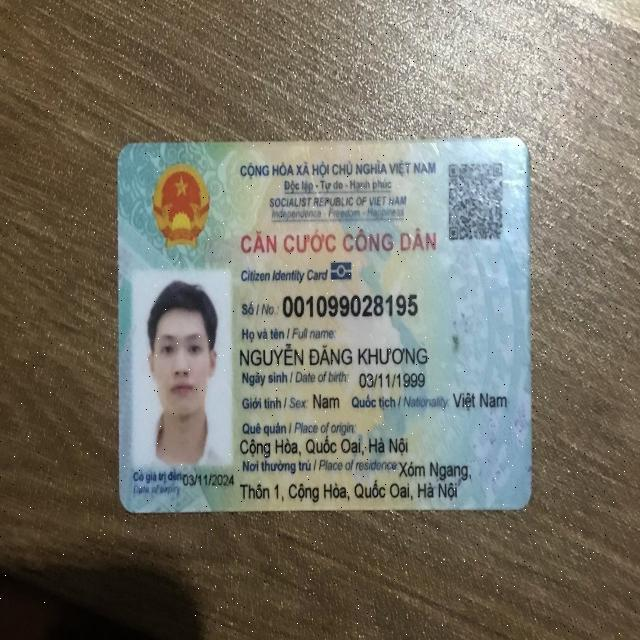current_place: (241, 475, 460, 502), (398, 459, 473, 483)
dob: (357, 369, 427, 388)
expire_date: (182, 470, 236, 491)
gender: (311, 390, 346, 414)
id: (279, 290, 418, 317)
name: (233, 339, 430, 369)
nationality: (451, 394, 508, 410)
origin_place: (239, 434, 410, 459)
qr: (444, 160, 510, 248)
